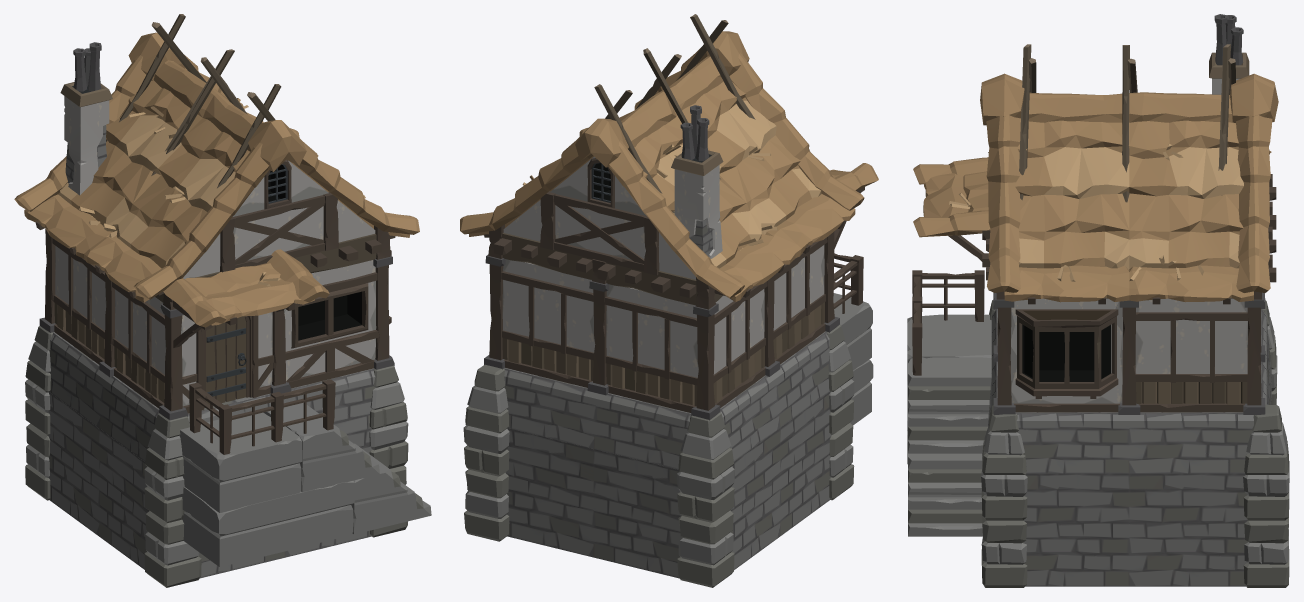
File: SM_Bld_Preset_House_03_Optimized.glb
3 views of the same model, side by side, from view 1: azimuth 30°, elevation 25°; view 2: azimuth 150°, elevation 25°; view 3: azimuth 270°, elevation 25° (orthographic). The views are drawn at different scales.
Parts seen in each view (by area): view 1: SM_Bld_Preset_House_03_Optimized; view 2: SM_Bld_Preset_House_03_Optimized; view 3: SM_Bld_Preset_House_03_Optimized.
Boxes of the visible parts, x1,y1,x2,y2 form: SM_Bld_Preset_House_03_Optimized: (14, 14, 431, 587); SM_Bld_Preset_House_03_Optimized: (460, 14, 878, 587); SM_Bld_Preset_House_03_Optimized: (907, 14, 1289, 587).
Size of the model in its own units: 6.78 by 10.51 by 7.67.
Materials: 1 (1 with a texture image).
